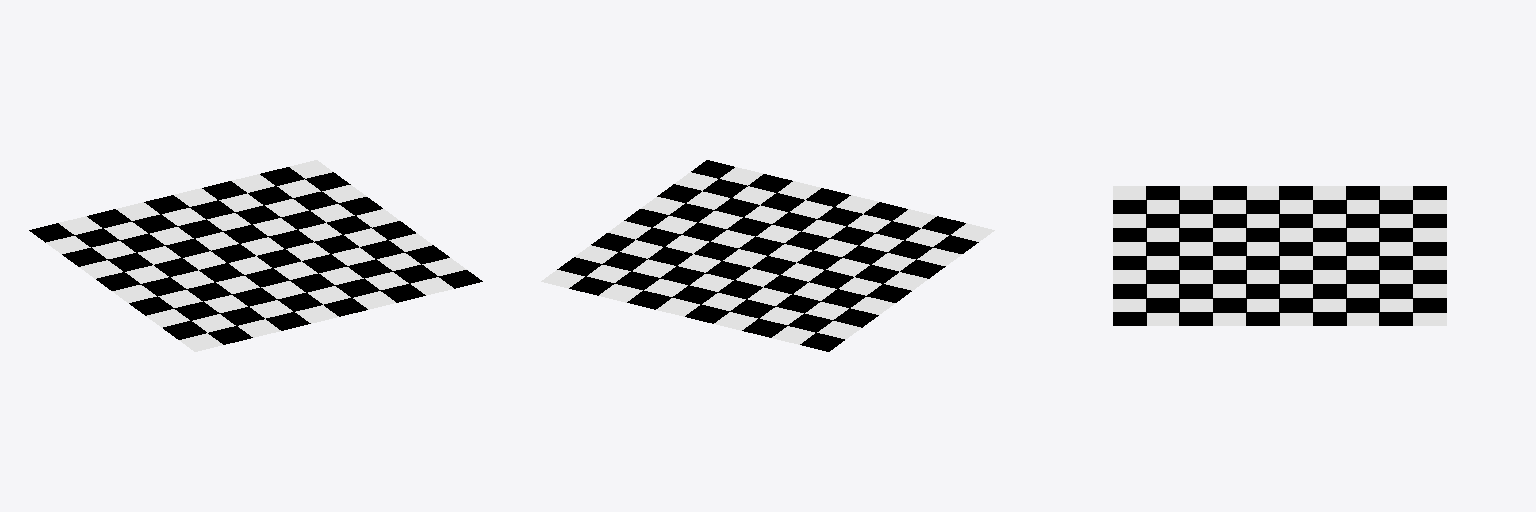
The picture shows the model from 3 angles: view 1: azimuth 30°, elevation 25°; view 2: azimuth 150°, elevation 25°; view 3: azimuth 270°, elevation 25°; orthographic projection.
Parts seen in each view (by area): view 1: pPlane1; view 2: pPlane1; view 3: pPlane1.
Boxes of the visible parts, <box> form: pPlane1: <box>29,160,482,351</box>; pPlane1: <box>541,160,994,351</box>; pPlane1: <box>1113,186,1446,325</box>.
Bounding box in the file's own units: 10 × 0 × 10.
Materials: 1 (1 with a texture image).